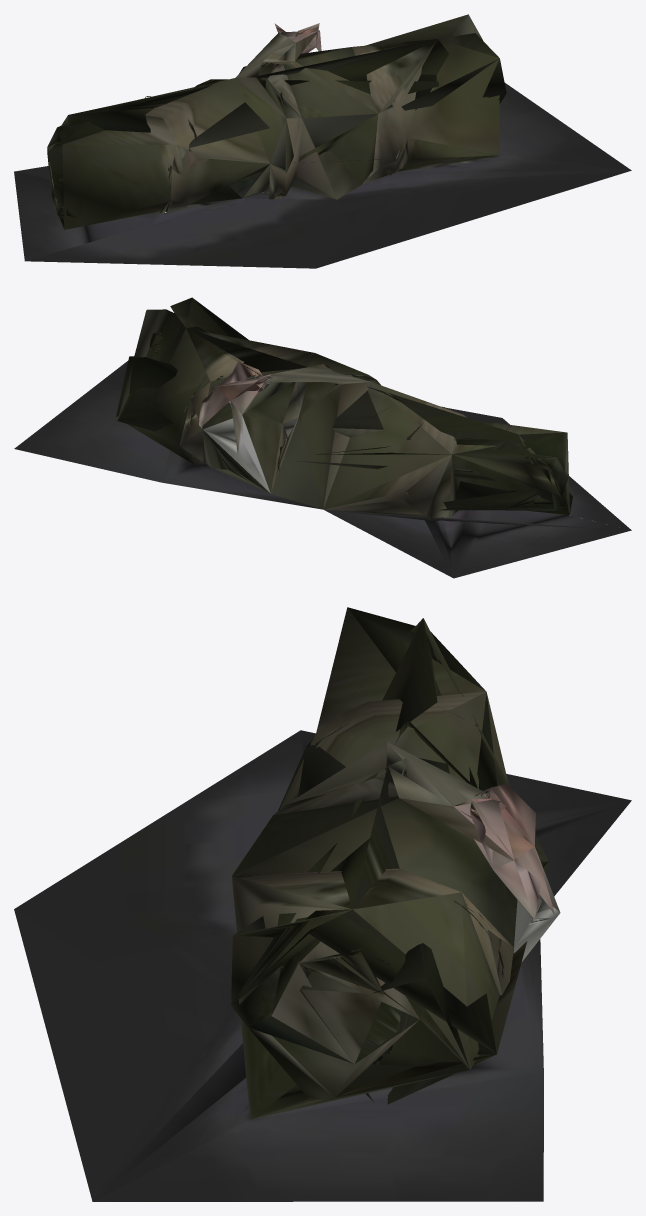
Rendered from pele_goblin_curtida.glb.
3 renders of one model, top to bottom at view 1: azimuth 30°, elevation 25°; view 2: azimuth 150°, elevation 25°; view 3: azimuth 270°, elevation 25°, orthographic. The views are drawn at different scales.
Parts seen in each view (by area): view 1: geometry_0; view 2: geometry_0; view 3: geometry_0.
Part boxes in pixels (left/top/right/bottom): geometry_0: left=14, top=14, right=631, bottom=268; geometry_0: left=14, top=297, right=631, bottom=578; geometry_0: left=14, top=607, right=631, bottom=1201.
Bounding box in the file's own units: 1 × 0.2237 × 0.5534.
Materials: 1 (1 with a texture image).
